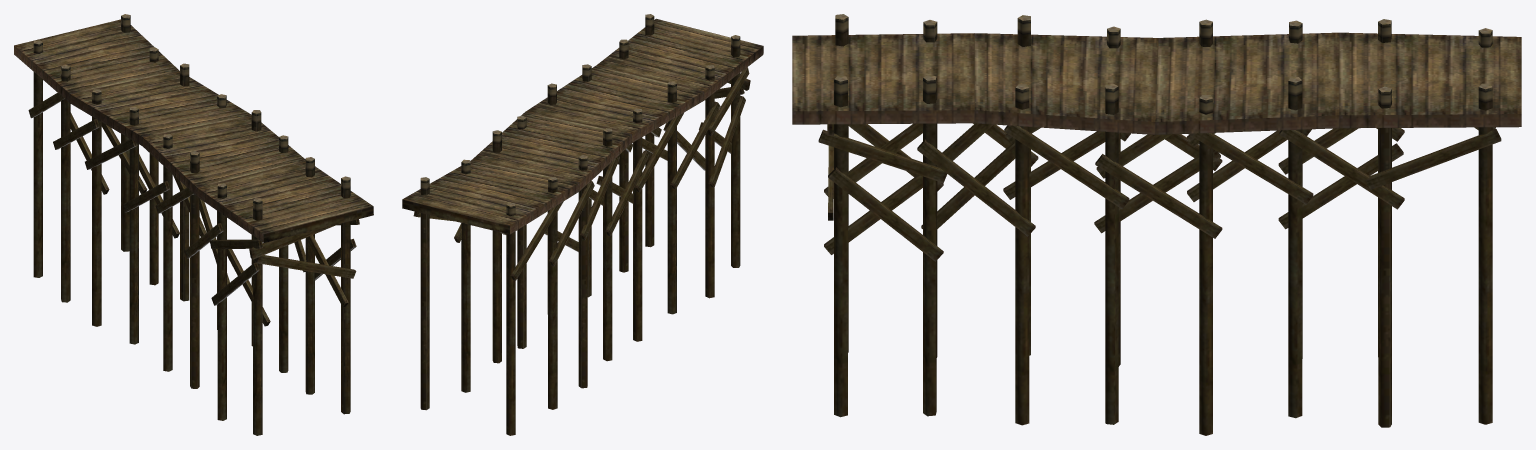
The model's file is nsm-general_obj_01_3.glb.
3 renders of one model, left to right at view 1: azimuth 30°, elevation 25°; view 2: azimuth 150°, elevation 25°; view 3: azimuth 270°, elevation 25°, orthographic. The views are drawn at different scales.
Visible parts, largest first — view 1: Mesh01; view 2: Mesh01; view 3: Mesh01.
Boxes of the visible parts, <box> form: Mesh01: <box>14,14,373,435</box>; Mesh01: <box>402,14,763,435</box>; Mesh01: <box>792,14,1521,435</box>.
Size of the model in its own units: 5.44 by 10.65 by 20.
Materials: 1 (1 with a texture image).
